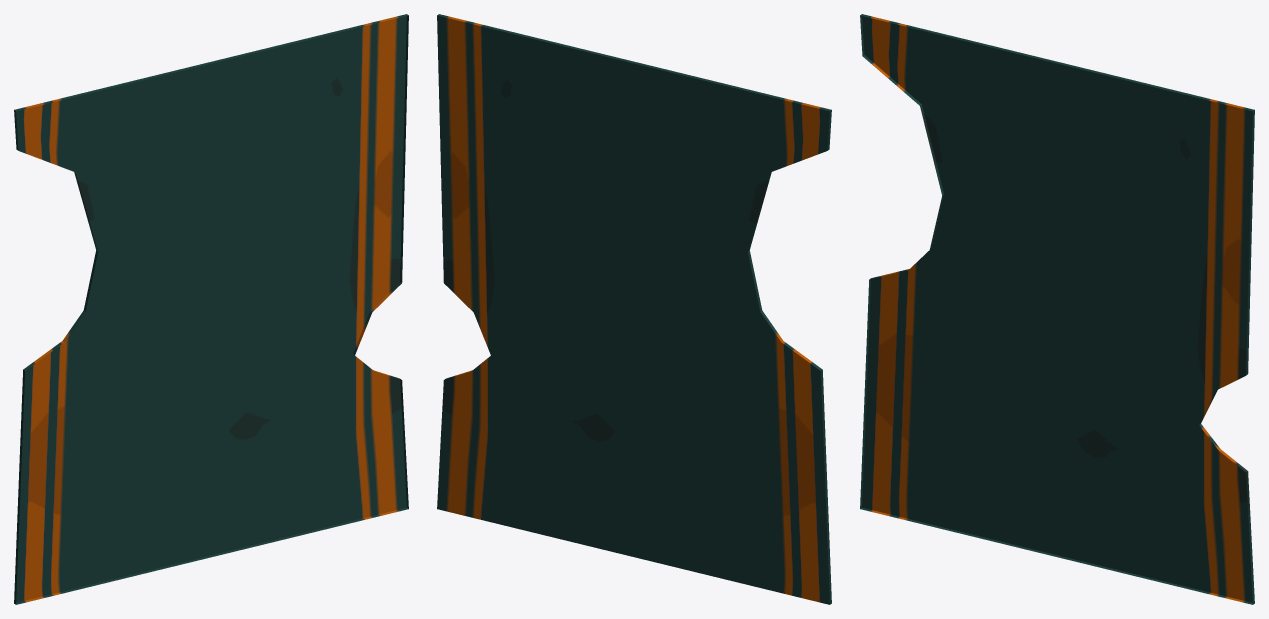
Rendered from Carpet 01 Center 02.FBX.
3 views of the same model, side by side, from view 1: azimuth 30°, elevation 25°; view 2: azimuth 150°, elevation 25°; view 3: azimuth 330°, elevation 25° (orthographic).
Visible parts, largest first — view 1: Carpet 01 Center02; view 2: Carpet 01 Center02; view 3: Carpet 01 Center02.
Part boxes in pixels (<box>): Carpet 01 Center02: <box>14,14,408,604</box>; Carpet 01 Center02: <box>437,14,831,604</box>; Carpet 01 Center02: <box>860,14,1254,604</box>.
Bounding box in the file's own units: 167 × 200 × 1.5.
